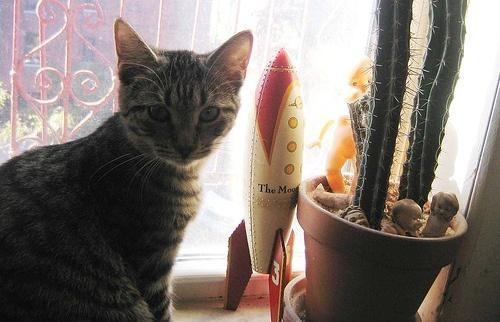cat: (1, 17, 252, 319)
pottedplant: (281, 3, 475, 322)
